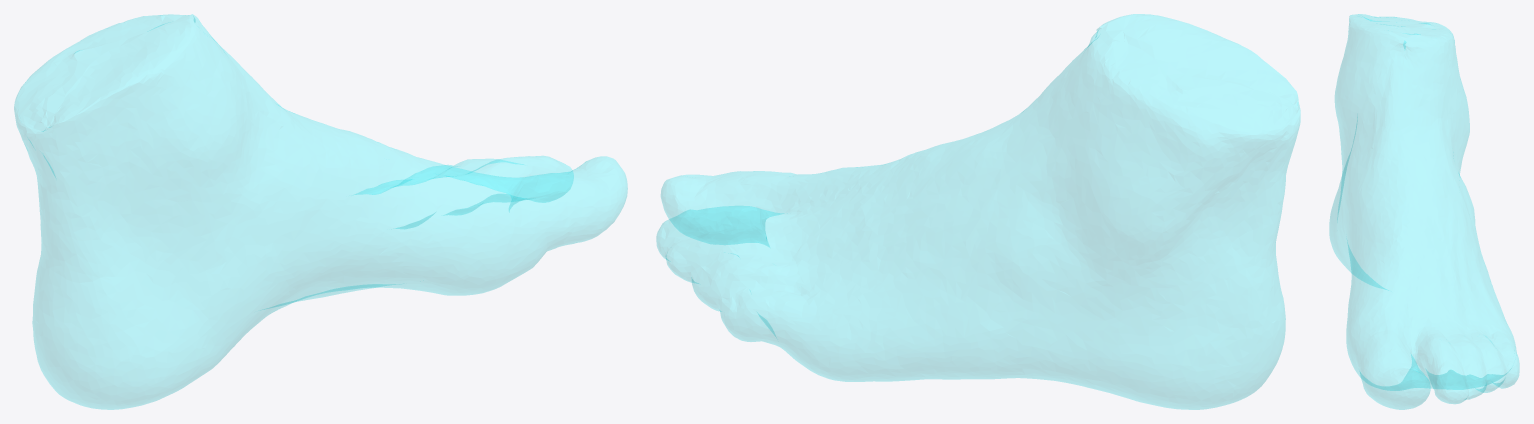
File: foot_holo.glb
3 renders of one model, left to right at view 1: azimuth 30°, elevation 25°; view 2: azimuth 150°, elevation 25°; view 3: azimuth 270°, elevation 25°, orthographic. The views are drawn at different scales.
Visible parts, largest first — view 1: geometry_0; view 2: geometry_0; view 3: geometry_0.
Boxes of the visible parts, x1=… form: geometry_0: x1=14, y1=14, x2=627, y2=409; geometry_0: x1=656, y1=14, x2=1300, y2=409; geometry_0: x1=1329, y1=14, x2=1519, y2=409.
Size of the model in its own units: 0.2641 by 0.15 by 0.0965.
